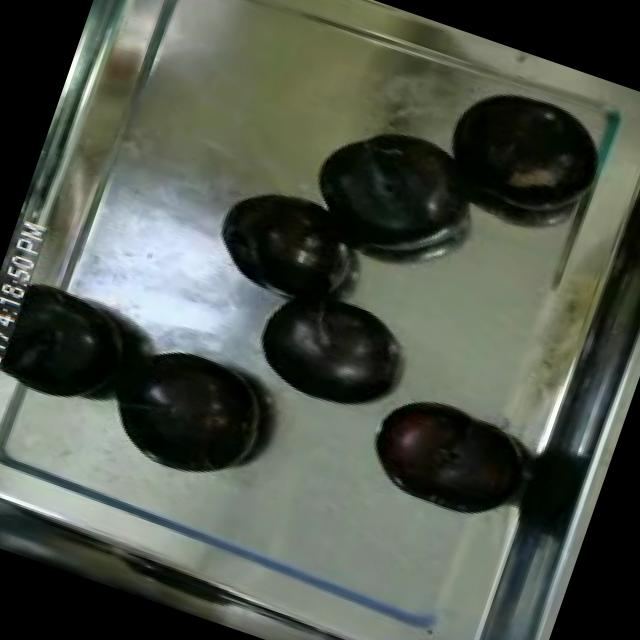Fruit: (81, 322, 284, 498), (236, 266, 419, 429), (428, 69, 614, 227), (297, 108, 478, 266), (351, 379, 532, 531), (200, 170, 363, 318), (0, 266, 148, 422)
